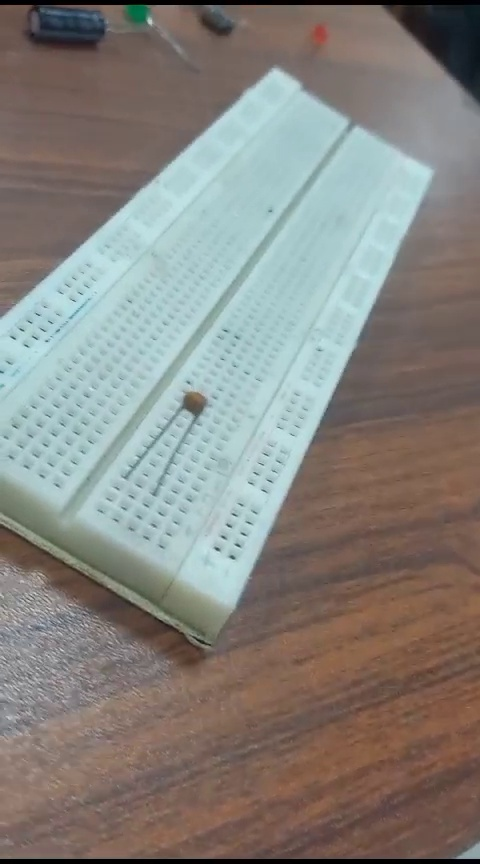ceramic capacitor: (120, 383, 211, 507)
